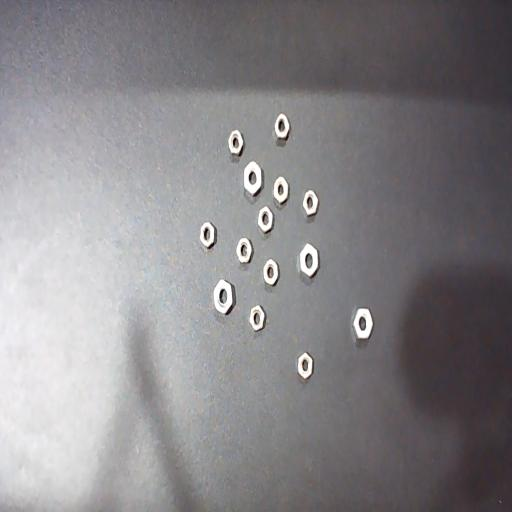nut: (244, 161, 264, 201), (298, 243, 318, 283), (352, 308, 373, 346), (214, 280, 234, 316), (274, 114, 290, 146), (228, 130, 244, 161), (302, 190, 318, 220), (236, 238, 252, 267), (274, 177, 288, 207), (258, 206, 273, 234), (200, 222, 216, 248), (263, 260, 278, 286), (250, 305, 264, 332), (298, 353, 312, 380)
